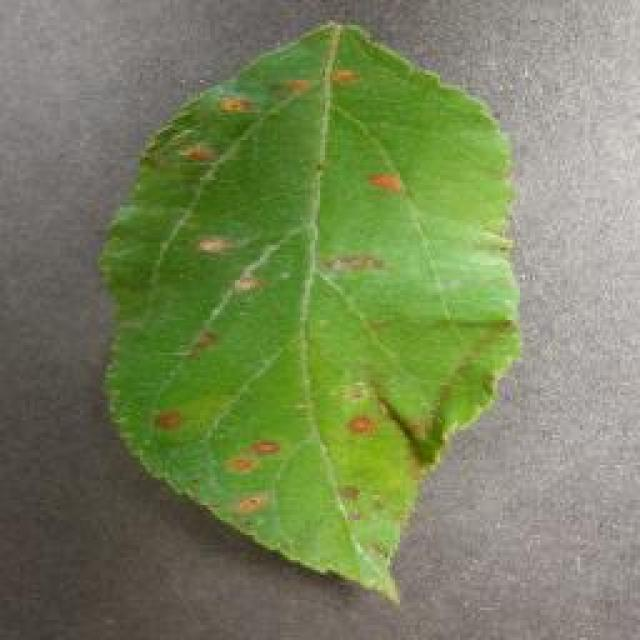apple rust disease: (95, 17, 523, 605)
